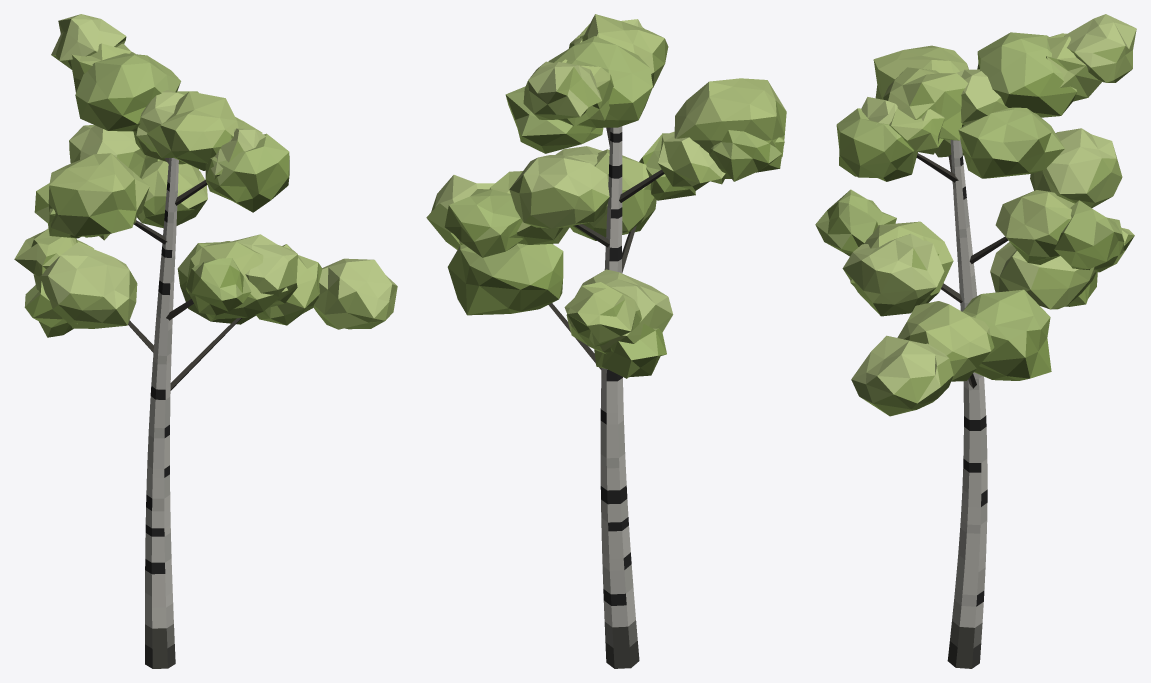
Rendered from river_birch.glb.
3 renders of one model, left to right at view 1: azimuth 30°, elevation 25°; view 2: azimuth 150°, elevation 25°; view 3: azimuth 270°, elevation 25°, orthographic. The views are drawn at different scales.
Visible parts, largest first — view 1: river_birch; view 2: river_birch; view 3: river_birch.
Part boxes in pixels (bbox=[...]): river_birch: bbox=[14, 14, 397, 668]; river_birch: bbox=[426, 14, 786, 668]; river_birch: bbox=[815, 14, 1136, 668].
Size of the model in its own units: 6.31 by 10.87 by 4.97.
